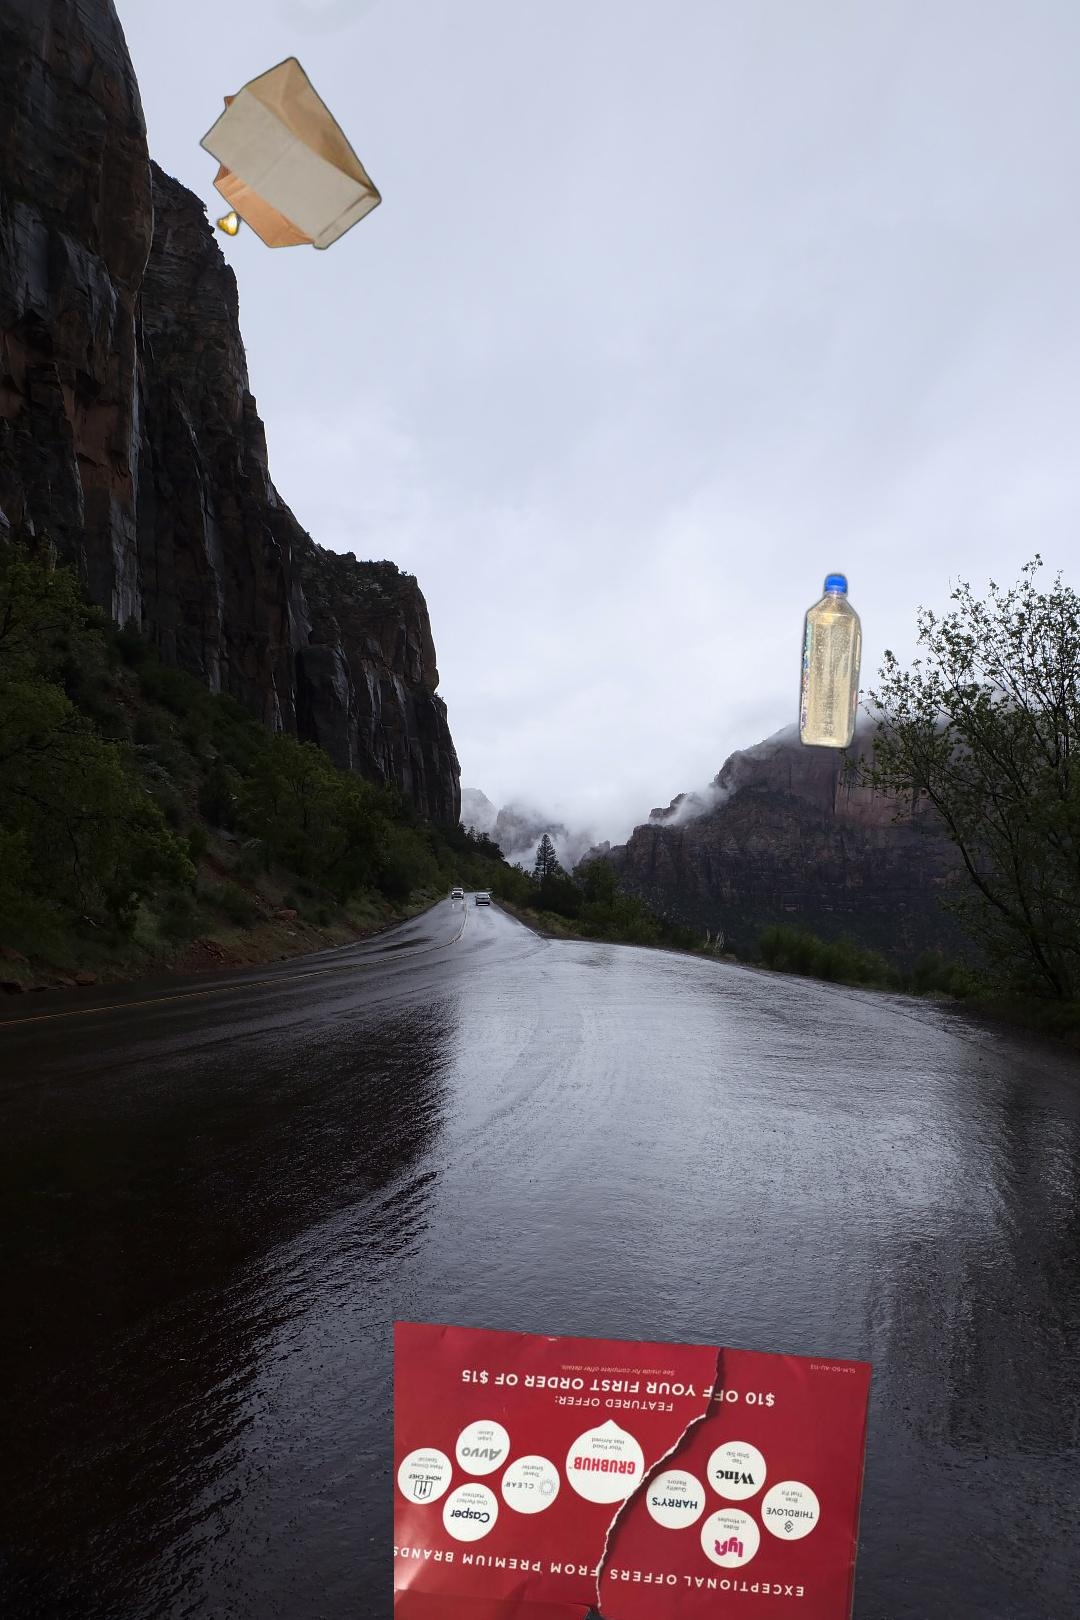paper: (394, 1317, 879, 1620)
paper-bag: (194, 52, 385, 252)
plastic-bottles: (794, 567, 1080, 755)
